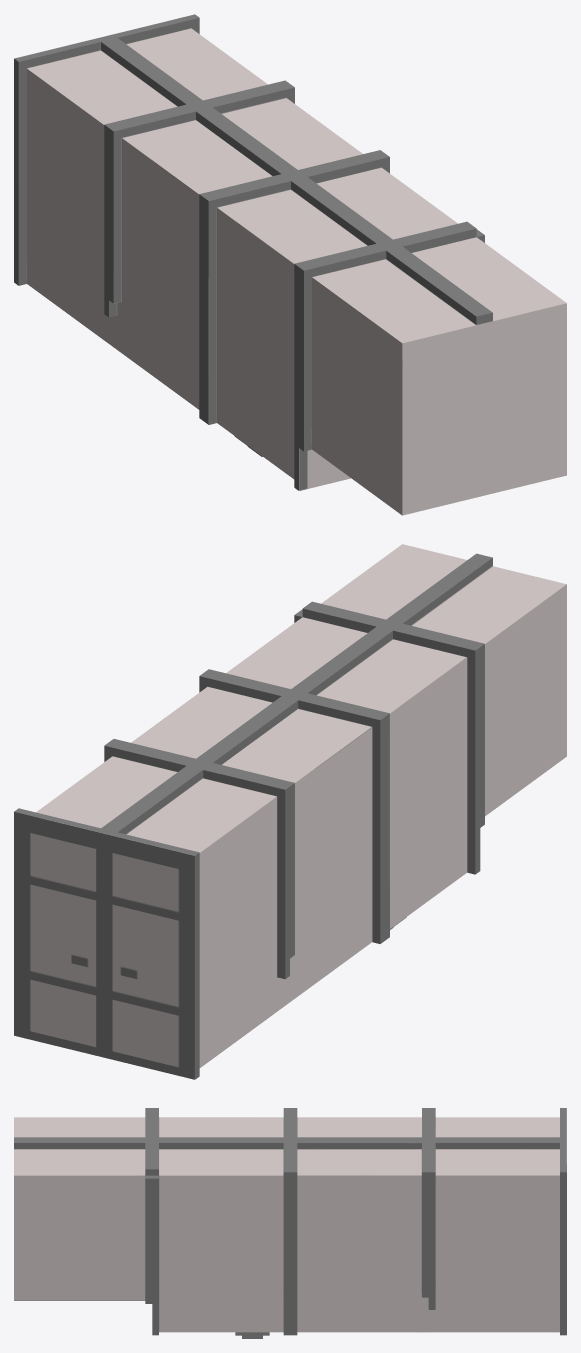
The model's file is Trailer_Box_Var1_2.obj.
3 views of the same model, one above another, from view 1: azimuth 30°, elevation 25°; view 2: azimuth 150°, elevation 25°; view 3: azimuth 270°, elevation 25° (orthographic). The views are drawn at different scales.
Parts seen in each view (by area): view 1: Trailer_Box_Var1_2_Trailer_Box_Var1_2.001; view 2: Trailer_Box_Var1_2_Trailer_Box_Var1_2.001; view 3: Trailer_Box_Var1_2_Trailer_Box_Var1_2.001.
Part boxes in pixels (x1=…): Trailer_Box_Var1_2_Trailer_Box_Var1_2.001: x1=14, y1=14, x2=566, y2=515; Trailer_Box_Var1_2_Trailer_Box_Var1_2.001: x1=14, y1=544, x2=566, y2=1079; Trailer_Box_Var1_2_Trailer_Box_Var1_2.001: x1=14, y1=1108, x2=566, y2=1338.
Size of the model in its own units: 2.2 by 2.8 by 8.
